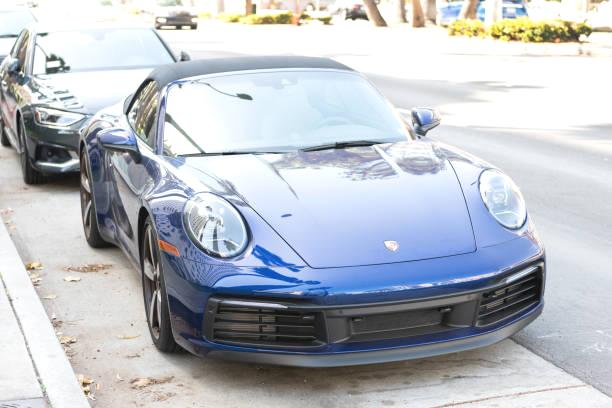porsche: (378, 236, 405, 256)
